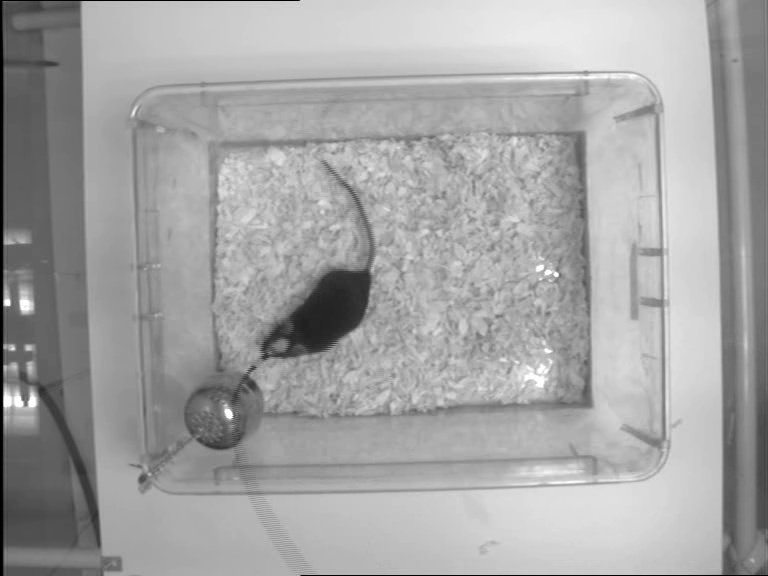mice: (259, 156, 377, 362)
